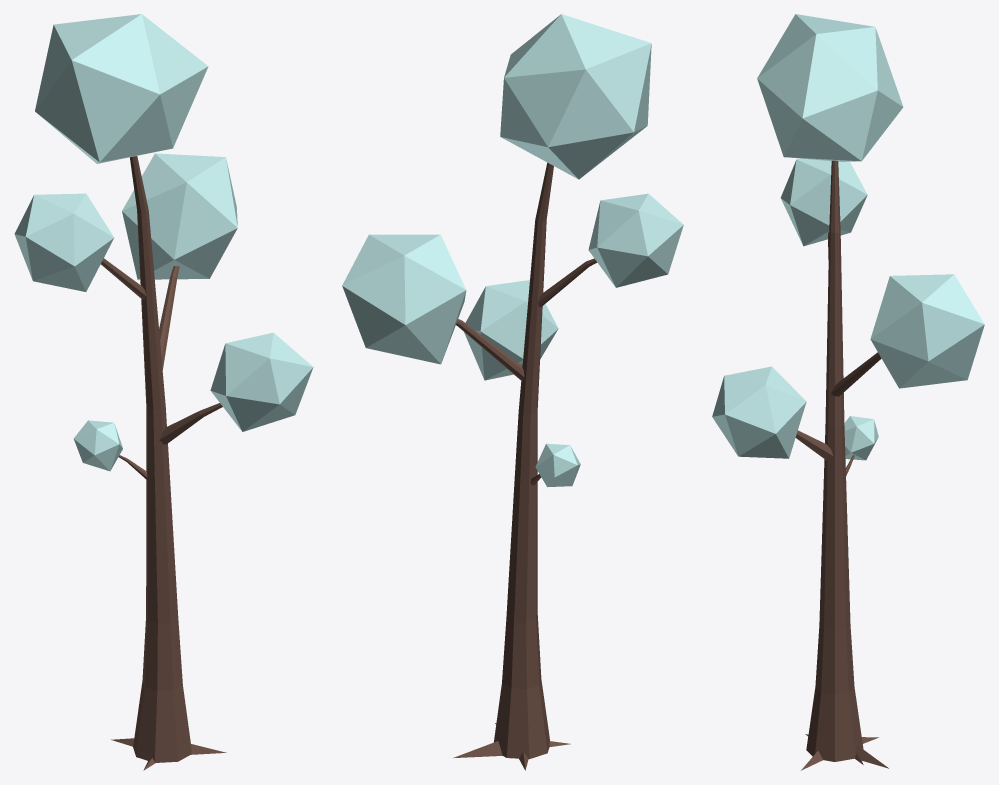
File: WinterTree_06.fbx
The picture shows the model from 3 angles, left to right: view 1: azimuth 30°, elevation 25°; view 2: azimuth 150°, elevation 25°; view 3: azimuth 270°, elevation 25°; orthographic projection. The views are drawn at different scales.
Parts seen in each view (by area): view 1: WinterTree_06; view 2: WinterTree_06; view 3: WinterTree_06.
Boxes of the visible parts, box(x1,y1,x2,y2) form: WinterTree_06: box(14, 14, 313, 770); WinterTree_06: box(342, 14, 683, 770); WinterTree_06: box(712, 14, 984, 770).
Size of the model in its own units: 426 by 1108 by 390.
